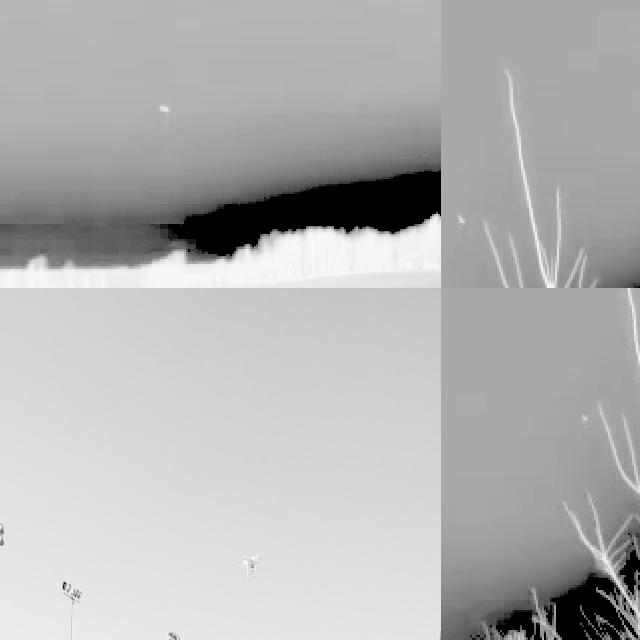0: (449, 207, 469, 237), (573, 408, 589, 434)
1: (147, 94, 183, 134)
drone: (237, 544, 264, 580)
